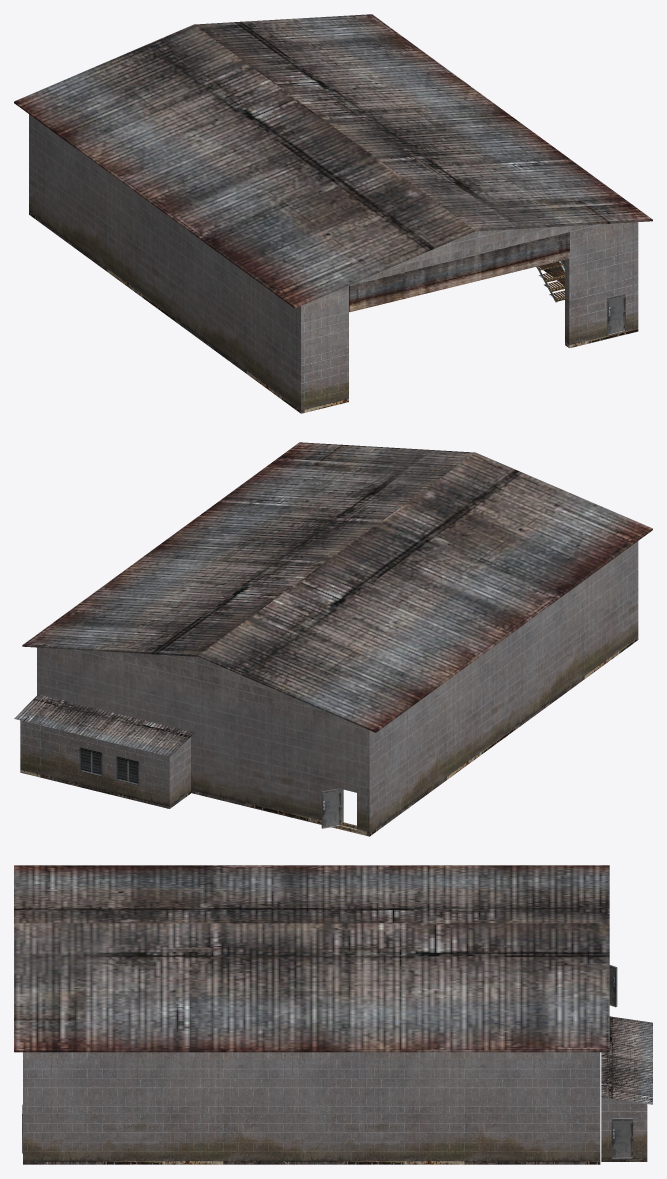
Rendered from warehse1.glb.
3 renders of one model, top to bottom at view 1: azimuth 30°, elevation 25°; view 2: azimuth 150°, elevation 25°; view 3: azimuth 270°, elevation 25°, orthographic. The views are drawn at different scales.
Parts seen in each view (by area): view 1: _warehse1; view 2: _warehse1; view 3: _warehse1.
Boxes of the visible parts, box(x1,y1,x2,y2) form: _warehse1: box(14, 14, 652, 413); _warehse1: box(14, 442, 652, 836); _warehse1: box(14, 865, 652, 1164).
Size of the model in its own units: 24.08 by 9.35 by 35.09.
3 materials, 3 textured.
